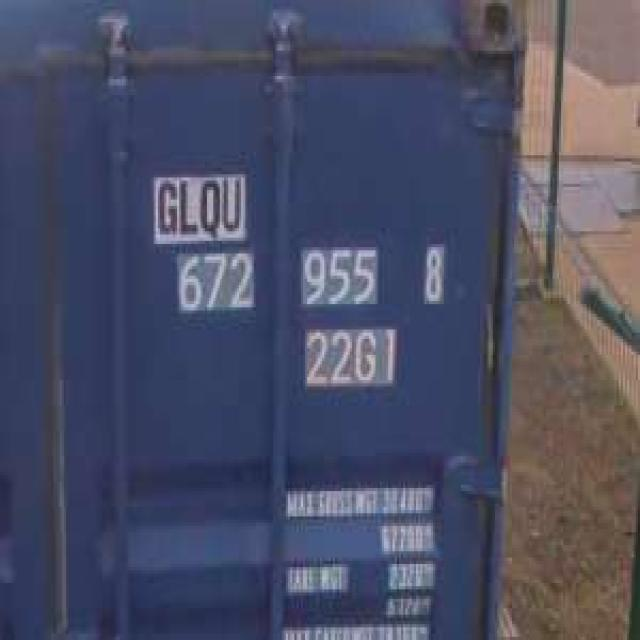dv: (423, 242, 448, 306)
owner: (152, 175, 246, 242)
serial: (168, 248, 390, 313)
size: (303, 326, 397, 388)
